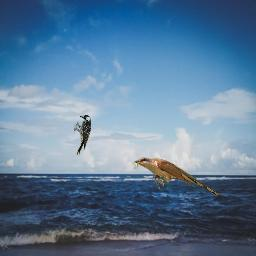Cuckoo: (132, 157, 221, 196)
Woodpecker: (74, 115, 91, 155)
